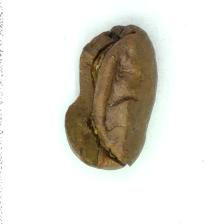NG: (65, 25, 138, 168)
